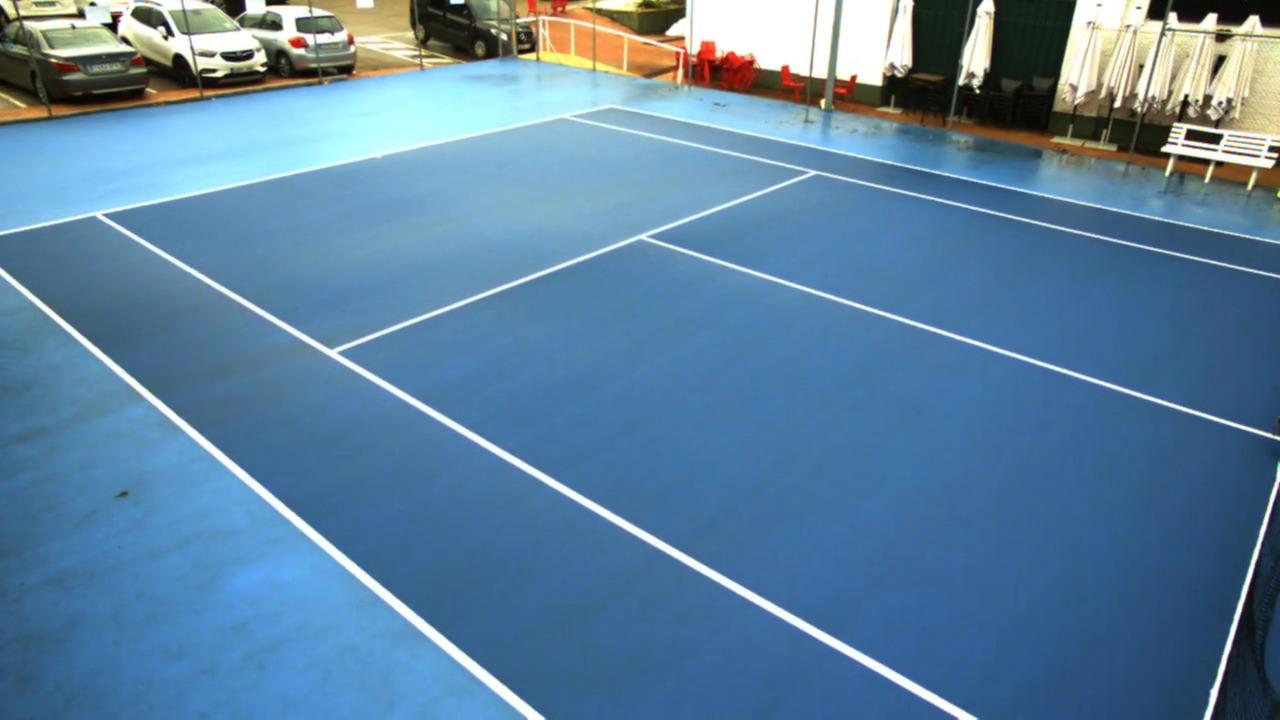cancha_tenis: (98, 117, 1280, 720)
point_f1: (82, 197, 118, 230)
point_f2: (545, 100, 590, 131)
point_fc1: (365, 146, 392, 164)
point_i1: (309, 330, 356, 367)
point_i2: (792, 159, 829, 183)
point_ic1: (624, 224, 661, 251)
